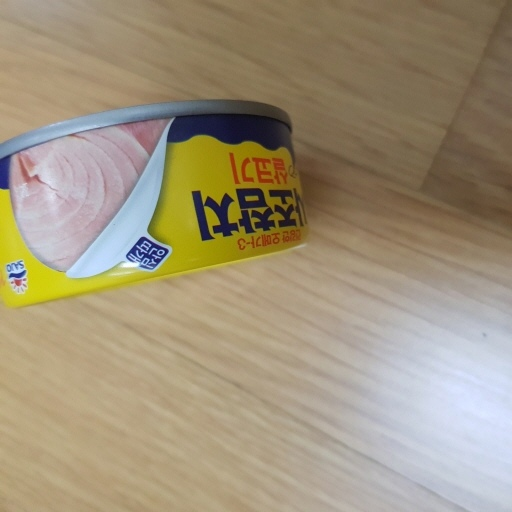Metal_1: (1, 103, 312, 308)
